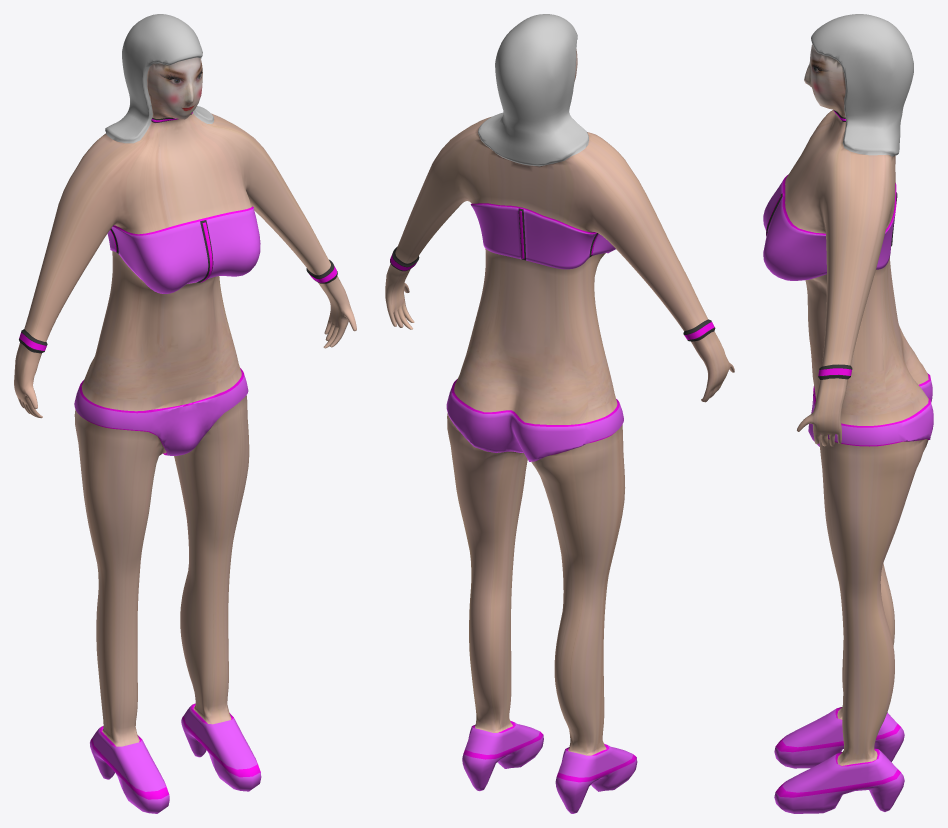
File: lukas 5.obj
3 renders of one model, left to right at view 1: azimuth 30°, elevation 25°; view 2: azimuth 150°, elevation 25°; view 3: azimuth 270°, elevation 25°, orthographic. The views are drawn at different scales.
Parts seen in each view (by area): view 1: lukas; view 2: lukas; view 3: lukas.
Boxes of the visible parts, x1,y1,x2,y2 form: lukas: [14, 14, 356, 813]; lukas: [385, 14, 734, 813]; lukas: [763, 14, 933, 813].
Size of the model in its own units: 5.4 by 11.86 by 2.37.
